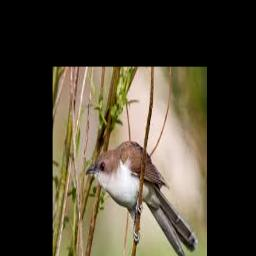Cuckoo: (86, 140, 199, 256)
